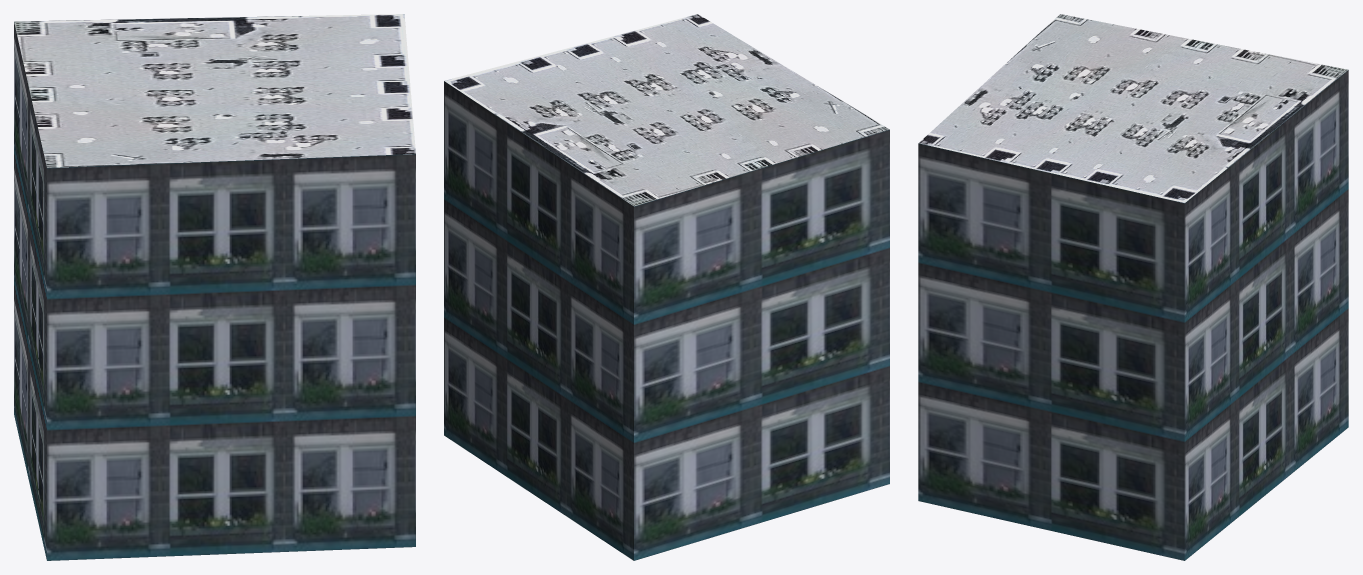
The model's file is ResTex__2606.fbx.
The picture shows the model from 3 angles, left to right: view 1: azimuth 30°, elevation 25°; view 2: azimuth 150°, elevation 25°; view 3: azimuth 270°, elevation 25°; orthographic projection. The views are drawn at different scales.
Visible parts, largest first — view 1: CityEngineMaterial_11_m, CityEngineMaterial_8_m; view 2: CityEngineMaterial_11_m, CityEngineMaterial_8_m; view 3: CityEngineMaterial_11_m, CityEngineMaterial_8_m.
Boxes of the visible parts, x1,y1,x2,y2 form: CityEngineMaterial_11_m: (14, 22, 415, 560); CityEngineMaterial_8_m: (14, 14, 415, 167); CityEngineMaterial_11_m: (444, 81, 889, 560); CityEngineMaterial_8_m: (444, 14, 889, 206); CityEngineMaterial_11_m: (918, 70, 1348, 560); CityEngineMaterial_8_m: (919, 14, 1347, 202).
Bounding box in the file's own units: 10.21 × 9 × 9.81.
2 materials, 2 textured.
